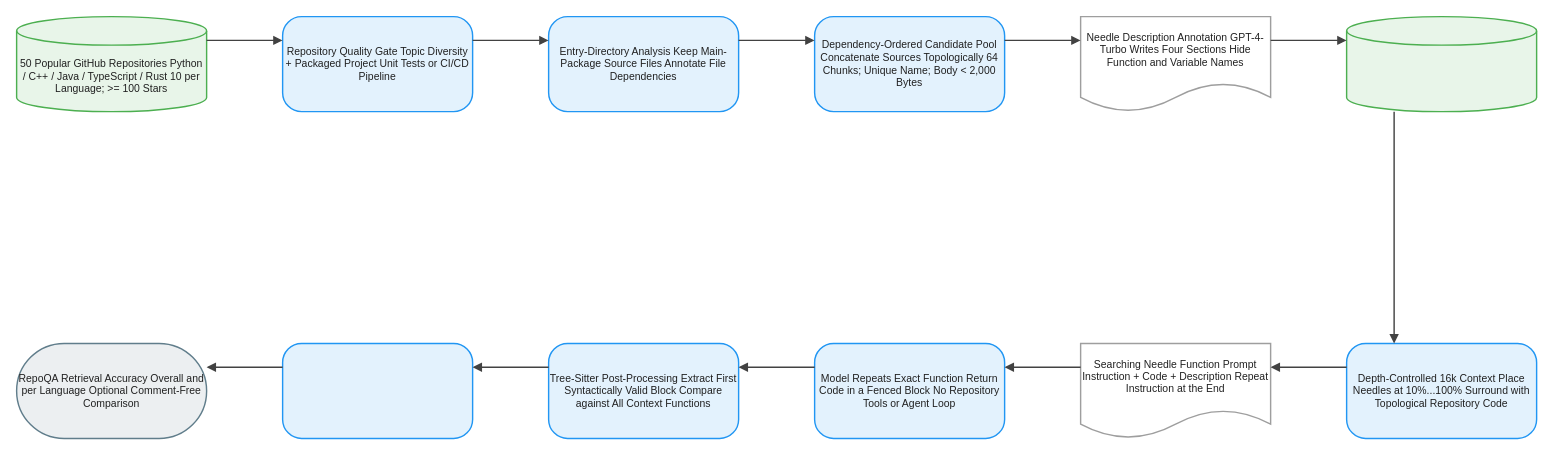
The diagram is 1554 pixels wide and 456 high, and some of its shapes have lost their labels. Here are the shapes that lost their labels. From the top down, the box of each, then its label:
(1345, 15, 1537, 112): RepoQA SNF Release 10 Needles per Repository 500 Tasks across 5 Languages
(281, 342, 473, 439): Retrieval Success Gate Needle Has Highest Smoothed BLEU Needle Similarity > 0.8
